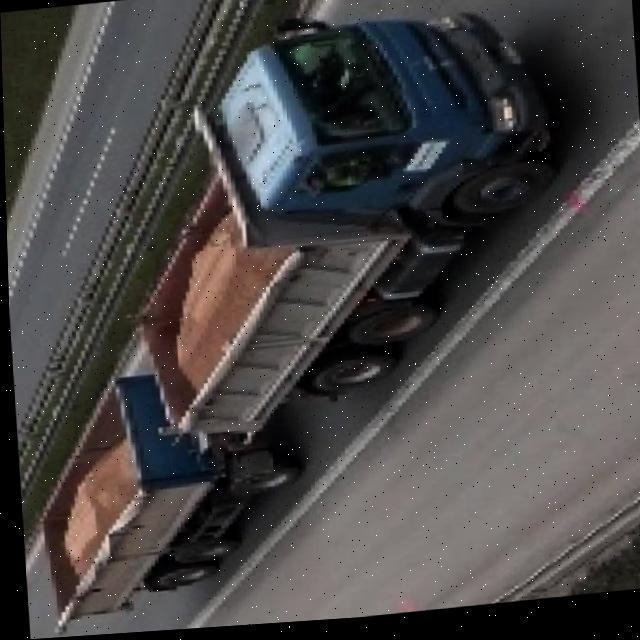truck: (1, 0, 582, 623)
